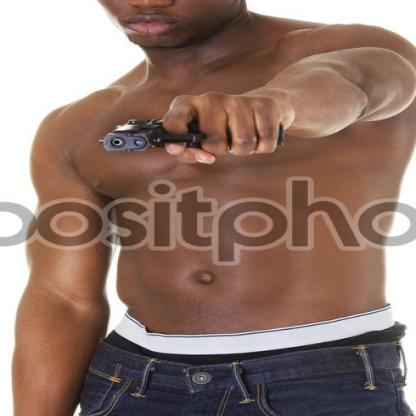gun: (86, 104, 294, 168)
